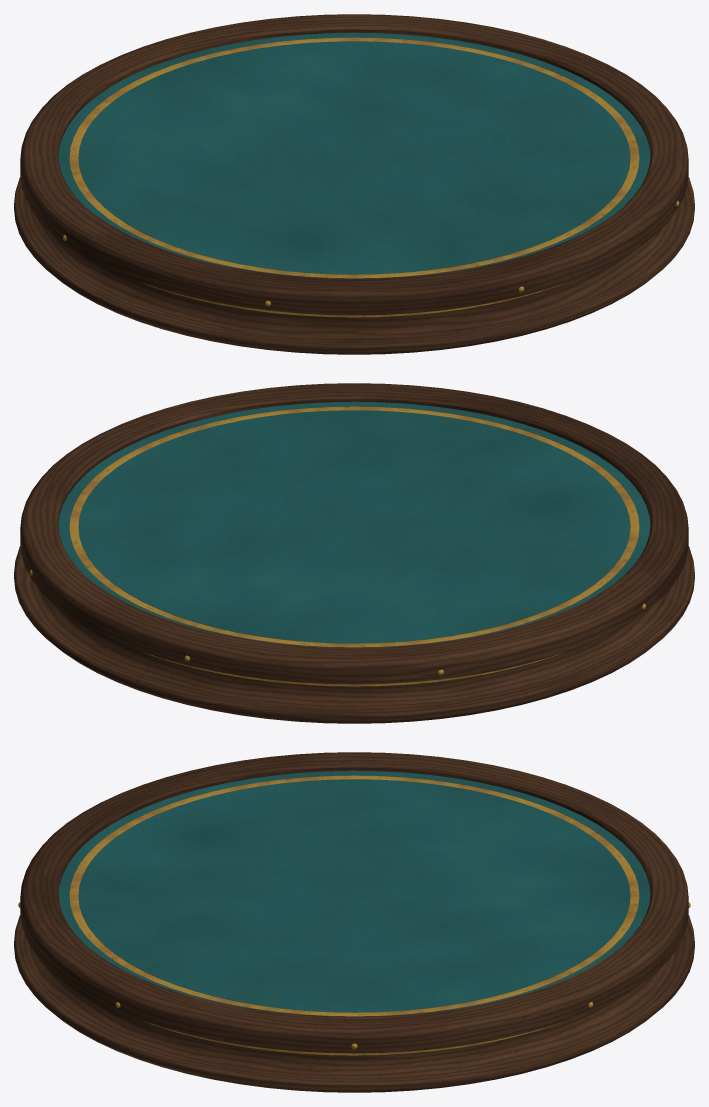
File: tockton_base_round.glb
3 views of the same model, one above another, from view 1: azimuth 30°, elevation 25°; view 2: azimuth 150°, elevation 25°; view 3: azimuth 270°, elevation 25° (orthographic).
Visible parts, largest first — view 1: TocktonBaseRound; view 2: TocktonBaseRound; view 3: TocktonBaseRound.
Boxes of the visible parts, left/top/right/bottom form: TocktonBaseRound: left=14, top=14, right=694, bottom=354; TocktonBaseRound: left=14, top=383, right=694, bottom=723; TocktonBaseRound: left=14, top=752, right=694, bottom=1092.
Bounding box in the file's own units: 0.46 × 0.045 × 0.46.
3 materials, 3 textured.
